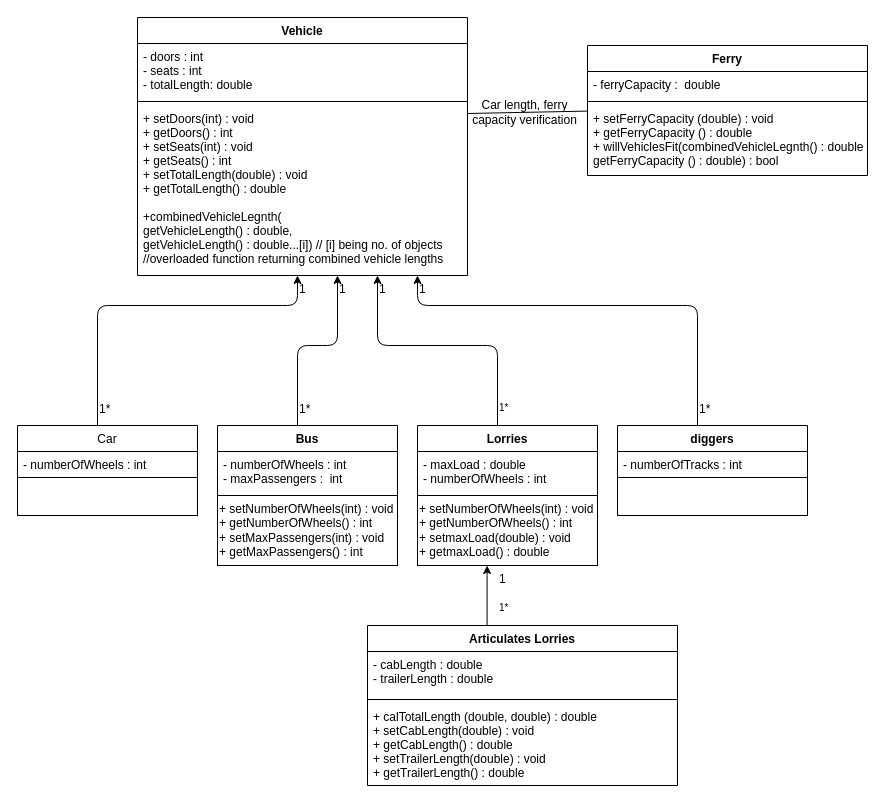
This 885x806 diagram has some shape labels left out. The centre of each missing label's shape, as x and y in pixels:
"+ setNumberOfTracks(int) : void + getNumberOfTracks : int" belongs at (x=712, y=496).
"+ setNumberOfWheels(int) : void + getNumberOfWheels() :int" belongs at (x=107, y=496).
